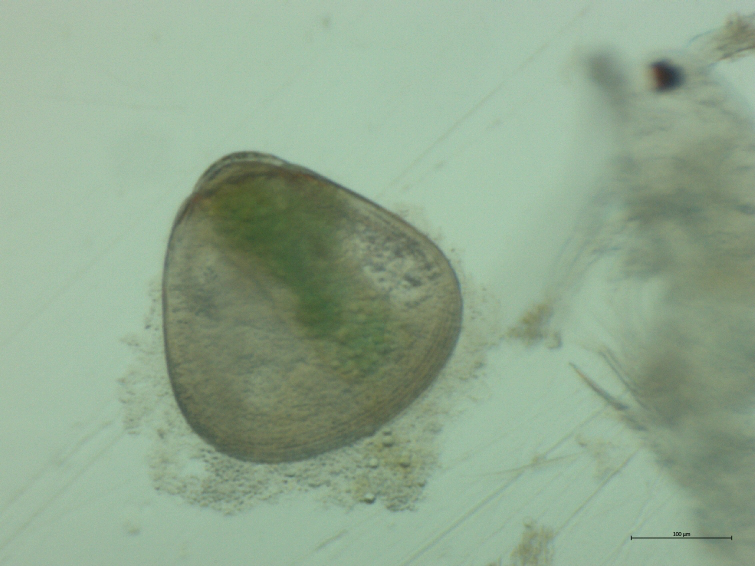oyster: (147, 139, 472, 478)
